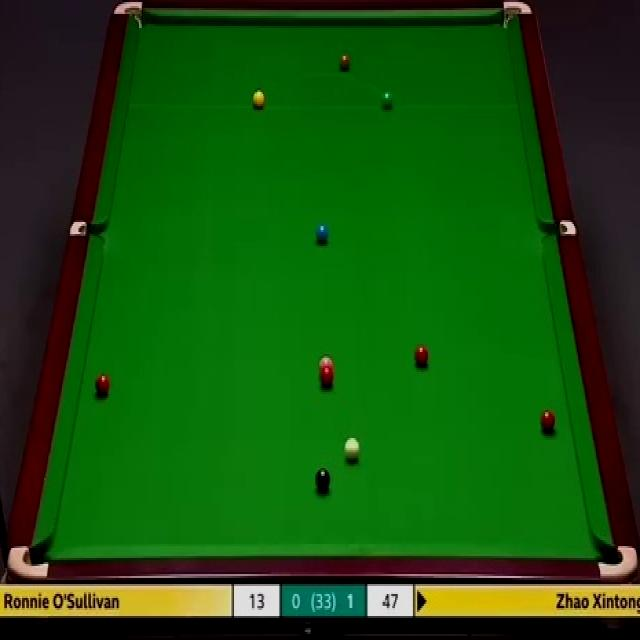black-ball: (315, 466, 331, 492)
blue-ball: (315, 222, 330, 244)
brown-ball: (338, 52, 351, 72)
green-ball: (380, 89, 393, 110)
pink-ball: (318, 356, 334, 370)
red-ball: (95, 372, 111, 398), (540, 411, 557, 433), (318, 367, 335, 388), (414, 345, 428, 368)
white-ball: (343, 438, 361, 463)
yellow-ball: (254, 91, 267, 111)
